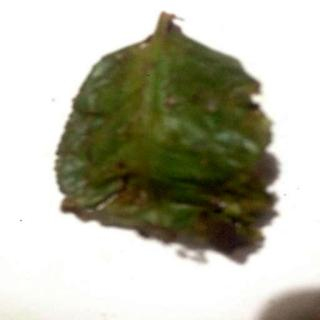Red Leaf Spot: (58, 14, 275, 256)
